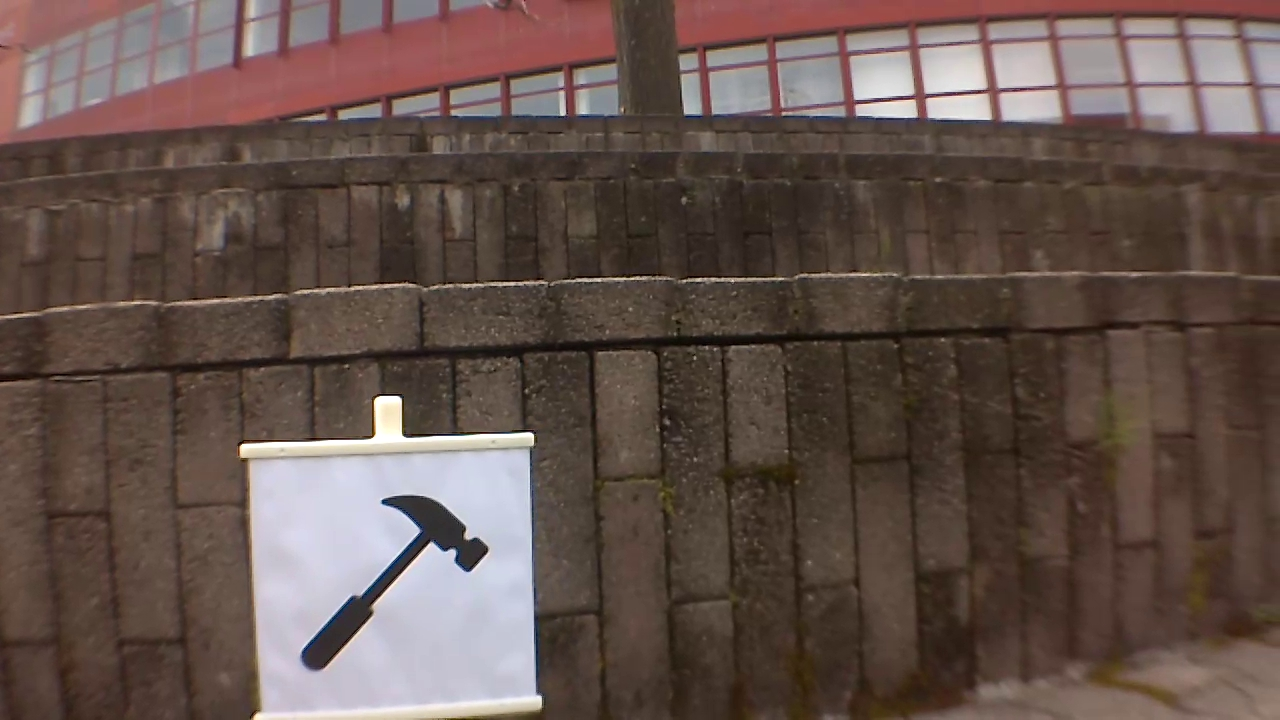hammer: (296, 489, 495, 673)
